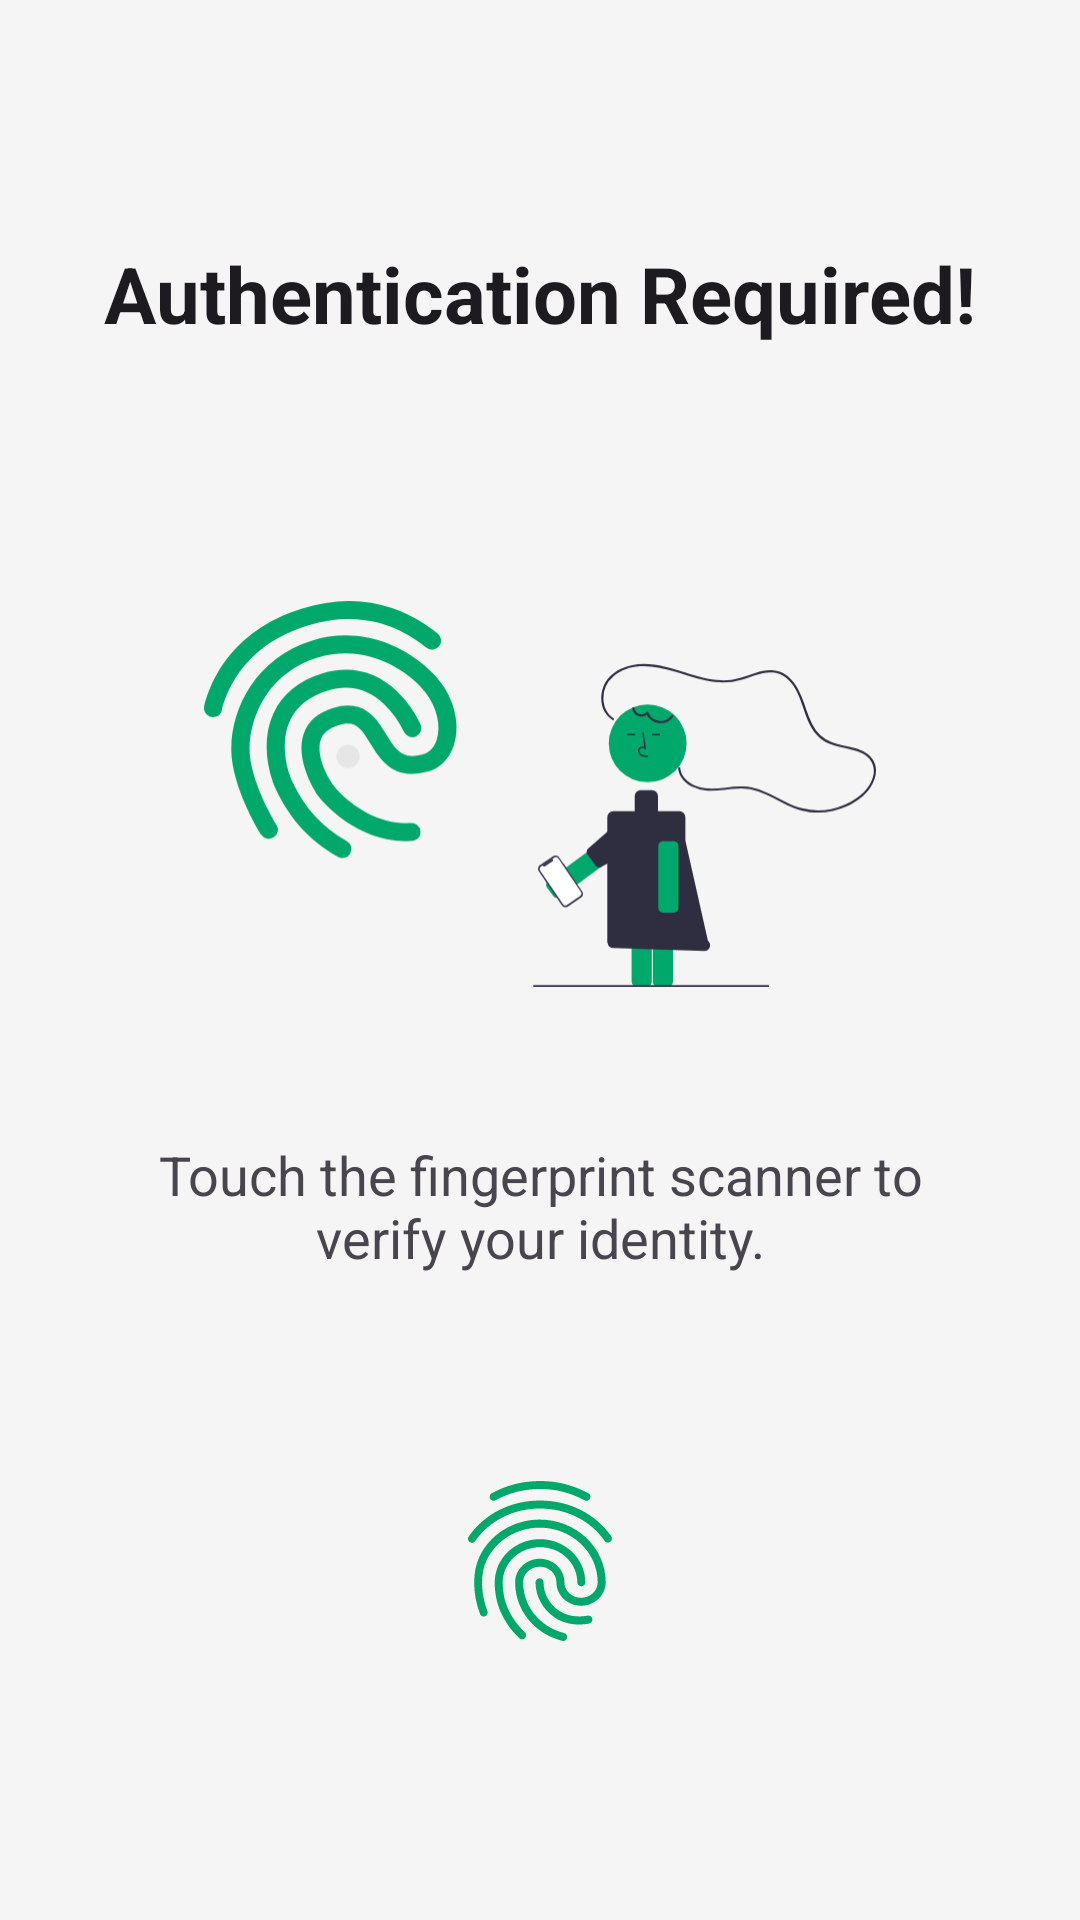

Screen size 1080×1920. Icon name, then its box in pixels as (x1, y1, x2, y2):
fingerprint: (468, 1481, 612, 1641)
